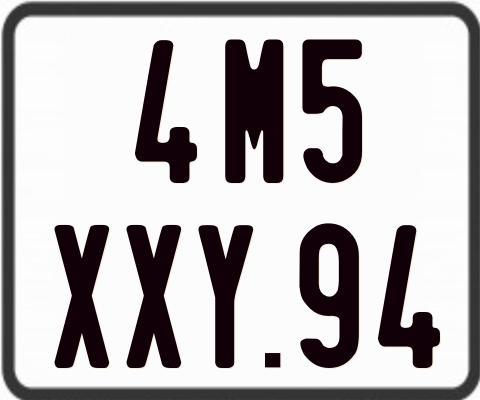4: (133, 40, 195, 187), (377, 224, 440, 368)
5: (301, 39, 367, 186)
9: (299, 223, 364, 372)
M: (223, 39, 286, 188)
X: (54, 222, 113, 370), (124, 222, 181, 371)
Y: (196, 224, 252, 371)
